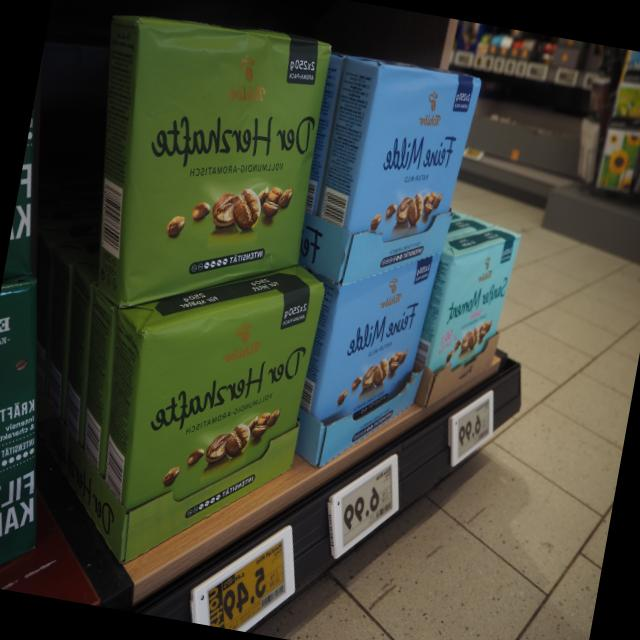Empty Shelf: (448, 83, 555, 248)
FM Gemahlen: (337, 61, 483, 288), (309, 250, 444, 456)
Herzhatfe Mundig: (118, 10, 333, 312), (120, 280, 326, 559)
SM Gemahlen: (420, 232, 522, 407)
